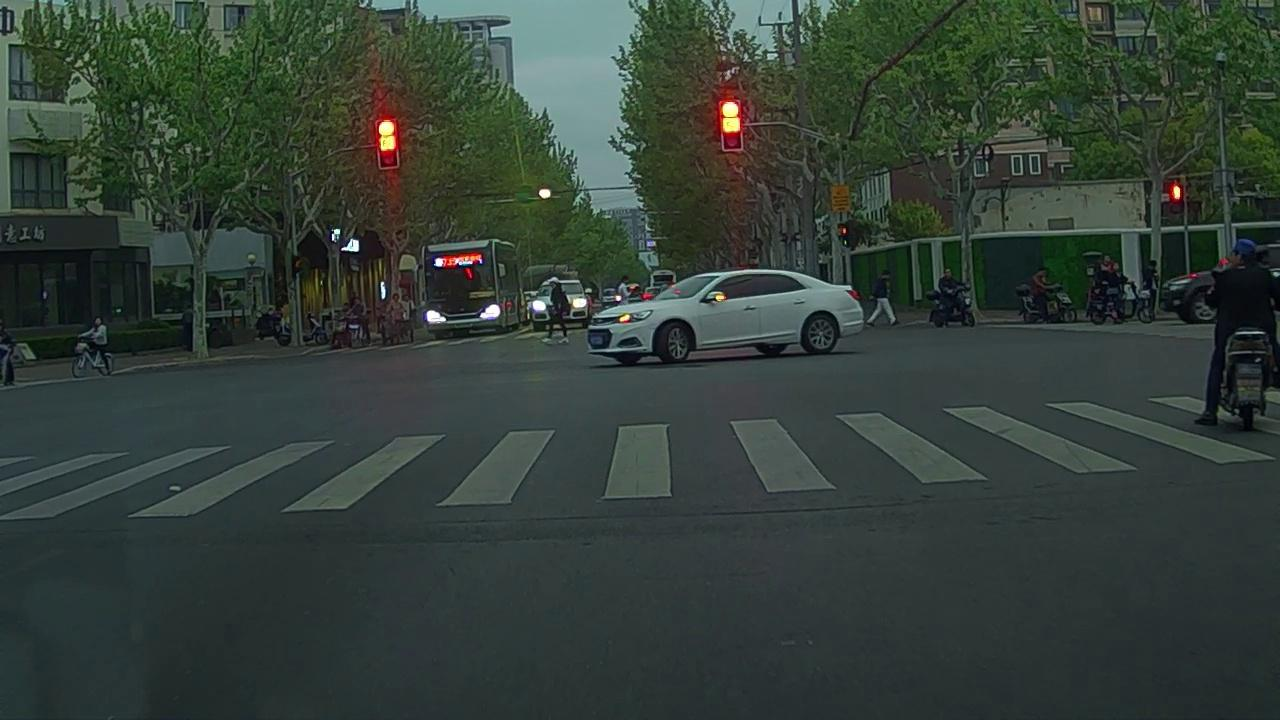traffic_light: (374, 116, 402, 170), (718, 98, 745, 153)
